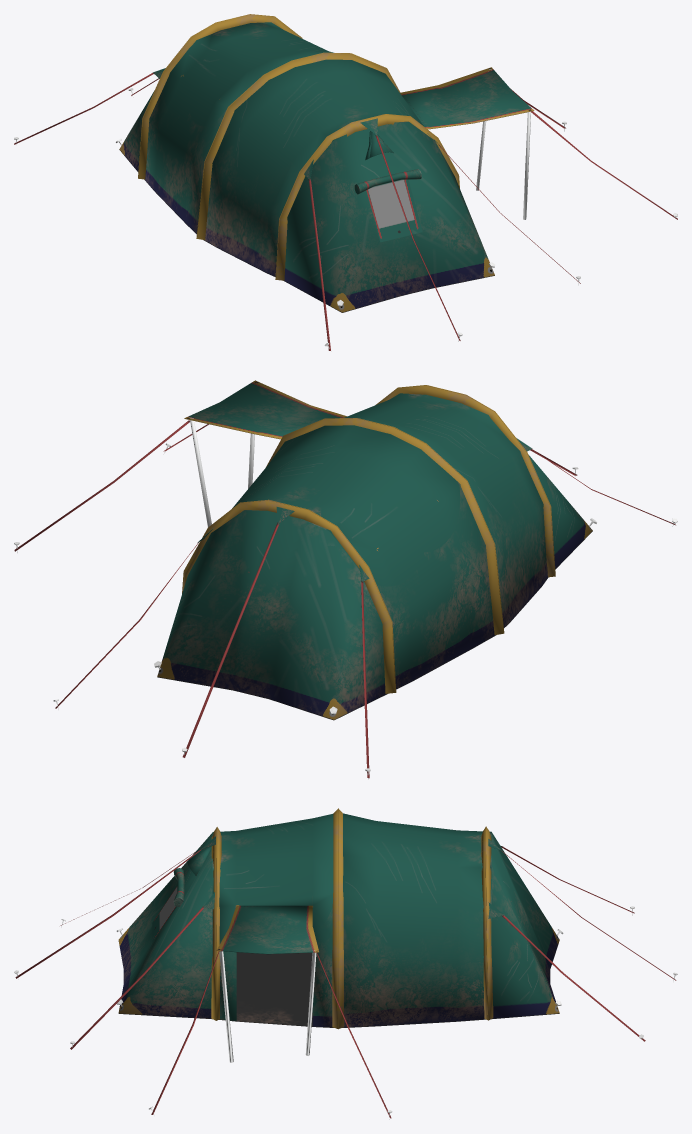
Rendered from Tent.fbx.
3 views of the same model, one above another, from view 1: azimuth 30°, elevation 25°; view 2: azimuth 150°, elevation 25°; view 3: azimuth 270°, elevation 25° (orthographic). The views are drawn at different scales.
Parts seen in each view (by area): view 1: polySurface10_lambert1_0; view 2: polySurface10_lambert1_0; view 3: polySurface10_lambert1_0.
Part boxes in pixels (x1,y1,x2,y2): polySurface10_lambert1_0: [14, 14, 677, 351]; polySurface10_lambert1_0: [14, 380, 677, 779]; polySurface10_lambert1_0: [14, 808, 677, 1119].
Bounding box in the file's own units: 366 × 134 × 494.
1 material, 1 textured.
